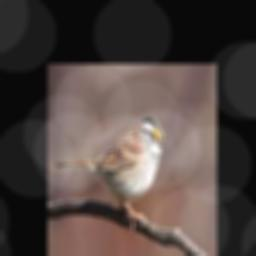Sparrow: (56, 117, 166, 233)
